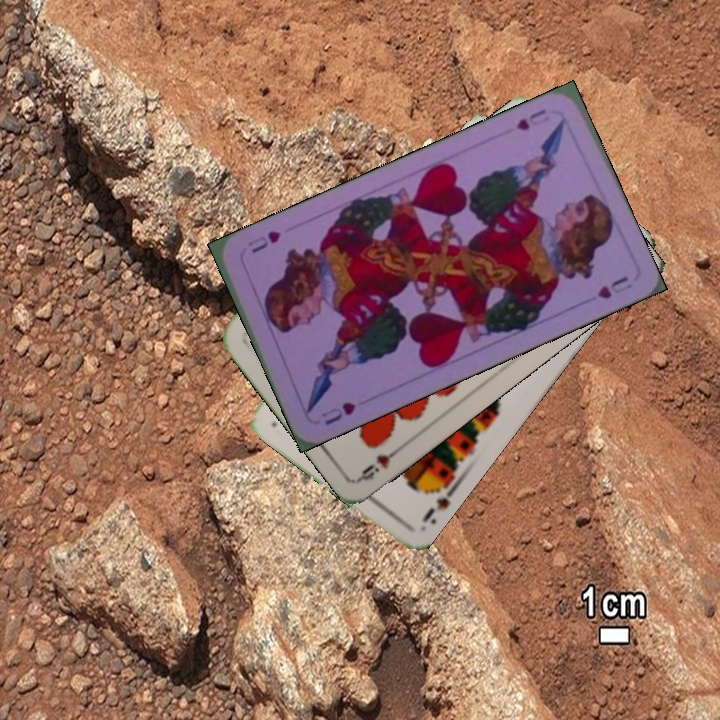H9: (356, 441, 407, 484)
HU: (317, 397, 358, 428), (512, 105, 549, 134)
S9: (418, 476, 461, 527)
